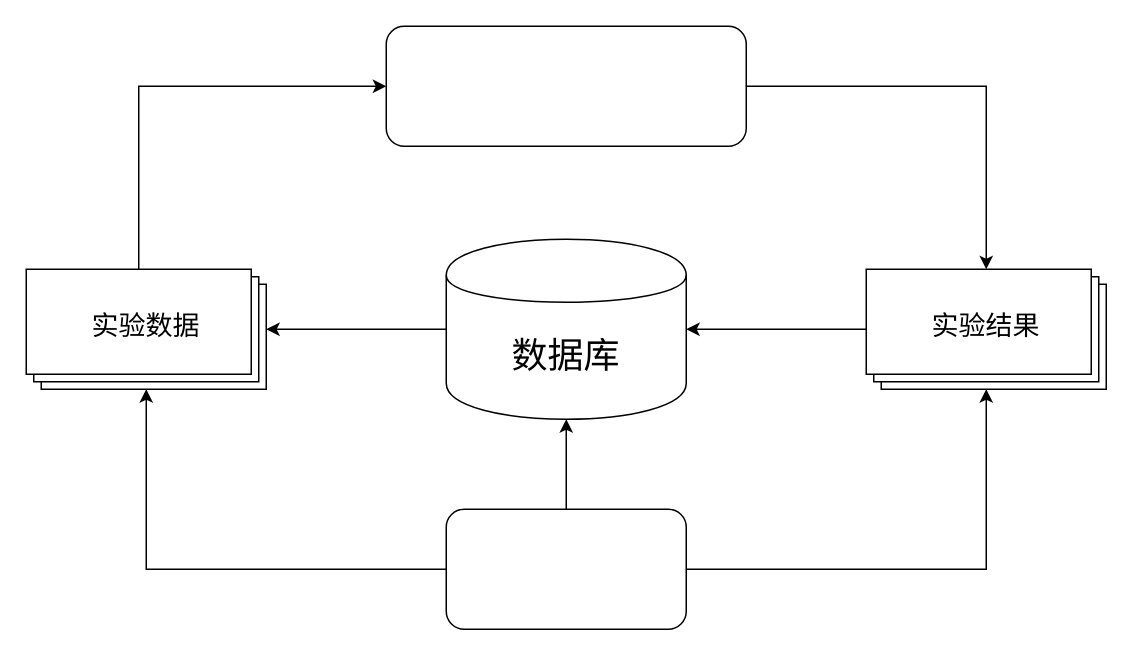
The diagram is 1133 pixels wide and 656 high, and some of its shapes have lost their labels. Each missing label, with the box of its shape:
数据分析平台: (445, 508, 686, 629)
模型训练平台 （TensorFlow/WandB）: (385, 25, 746, 146)
